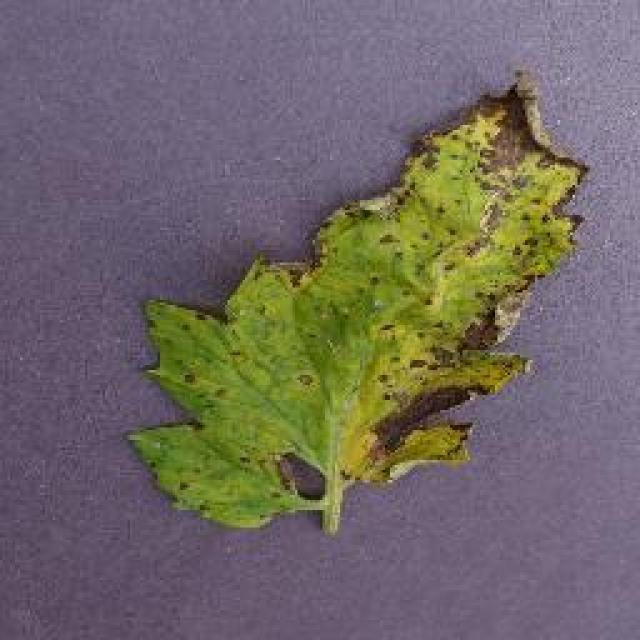Tomato target spot leaf: (110, 75, 600, 537)
